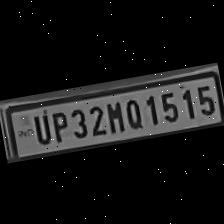1: (174, 83, 196, 119), (140, 90, 160, 127)
2: (82, 98, 107, 136)
3: (64, 102, 90, 138)
5: (152, 86, 180, 123), (190, 79, 216, 117)
M: (100, 96, 125, 134)
P: (44, 105, 70, 142)
Q: (119, 93, 145, 130)
U: (26, 108, 52, 146)
